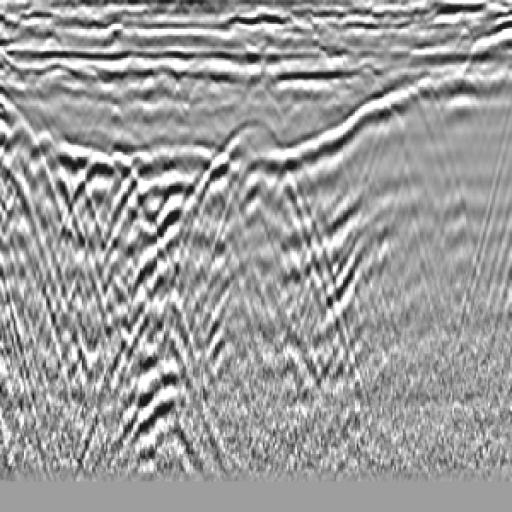metalic: (169, 106, 356, 295)
